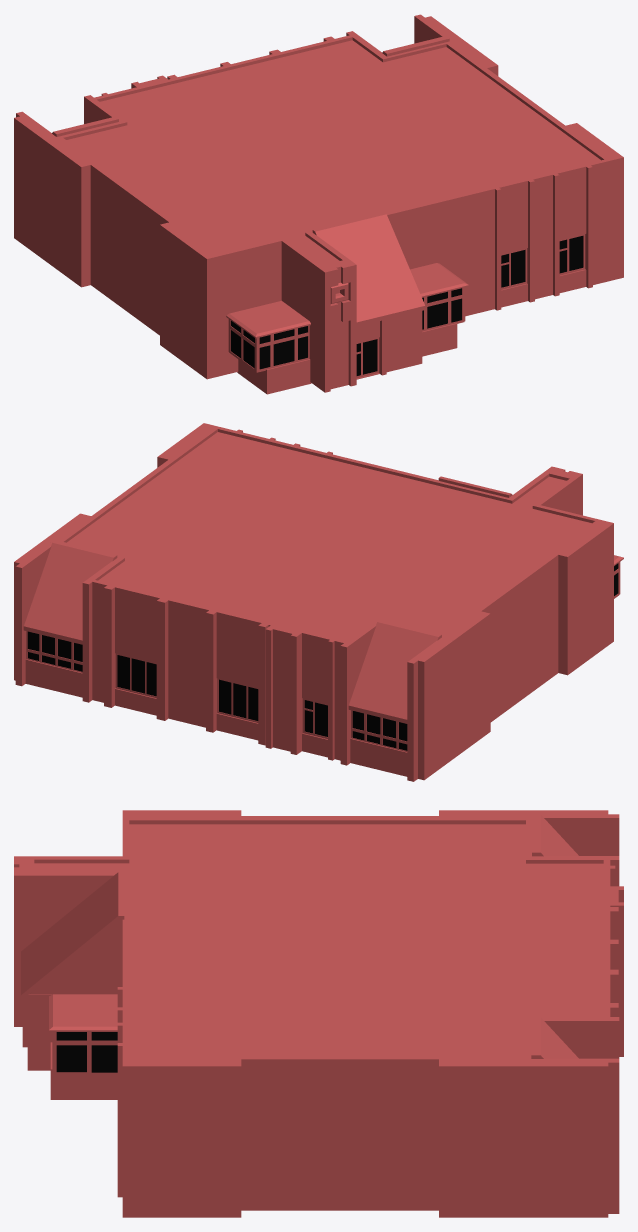
File: SM_house_section_16.fbx
3 views of the same model, one above another, from view 1: azimuth 30°, elevation 25°; view 2: azimuth 150°, elevation 25°; view 3: azimuth 270°, elevation 25° (orthographic). The views are drawn at different scales.
Parts seen in each view (by area): view 1: Cube_8; view 2: Cube_8; view 3: Cube_8.
Boxes of the visible parts, bbox=[...] form: Cube_8: bbox=[14, 14, 623, 394]; Cube_8: bbox=[14, 423, 623, 781]; Cube_8: bbox=[14, 810, 623, 1217].
Size of the model in its own units: 1815 by 519 by 1827.
